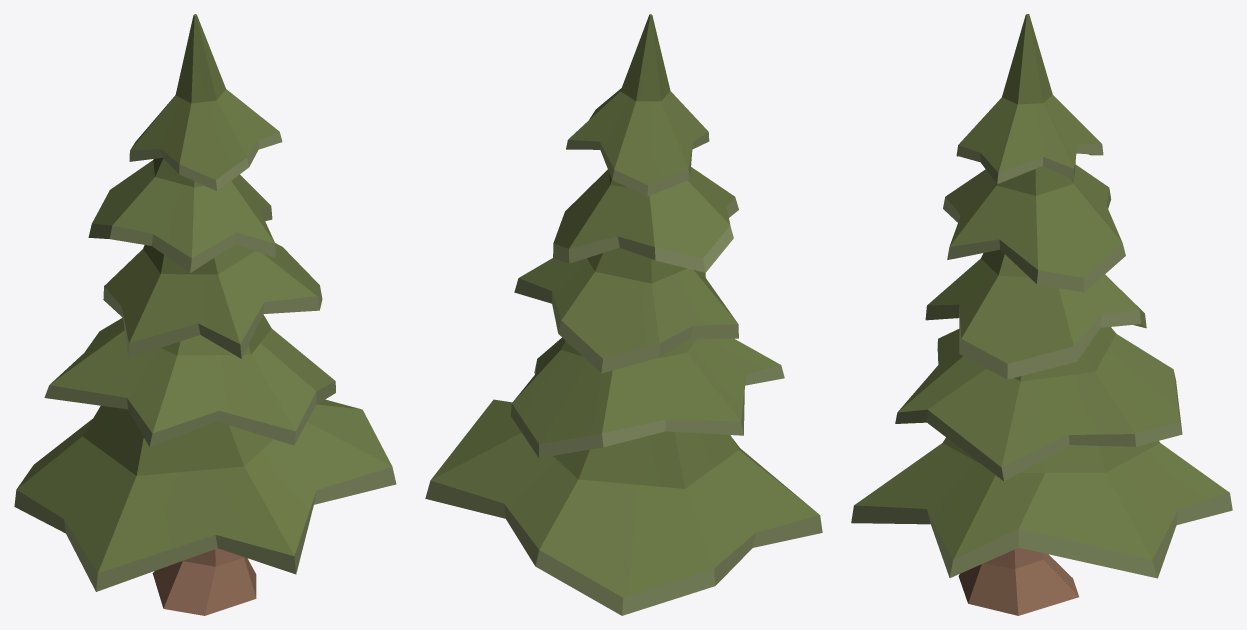
The model's file is fir_tree_21.fbx.
3 renders of one model, left to right at view 1: azimuth 30°, elevation 25°; view 2: azimuth 150°, elevation 25°; view 3: azimuth 270°, elevation 25°, orthographic.
Parts seen in each view (by area): view 1: fir_tree_21; view 2: fir_tree_21; view 3: fir_tree_21.
Boxes of the visible parts, x1,y1,x2,y2 form: fir_tree_21: [14, 14, 396, 615]; fir_tree_21: [425, 14, 822, 615]; fir_tree_21: [851, 14, 1232, 615].
Bounding box in the file's own units: 387 × 697 × 420.
